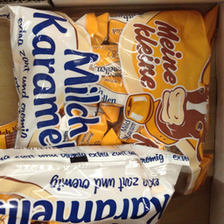candy: (9, 3, 210, 184), (1, 148, 186, 224)
